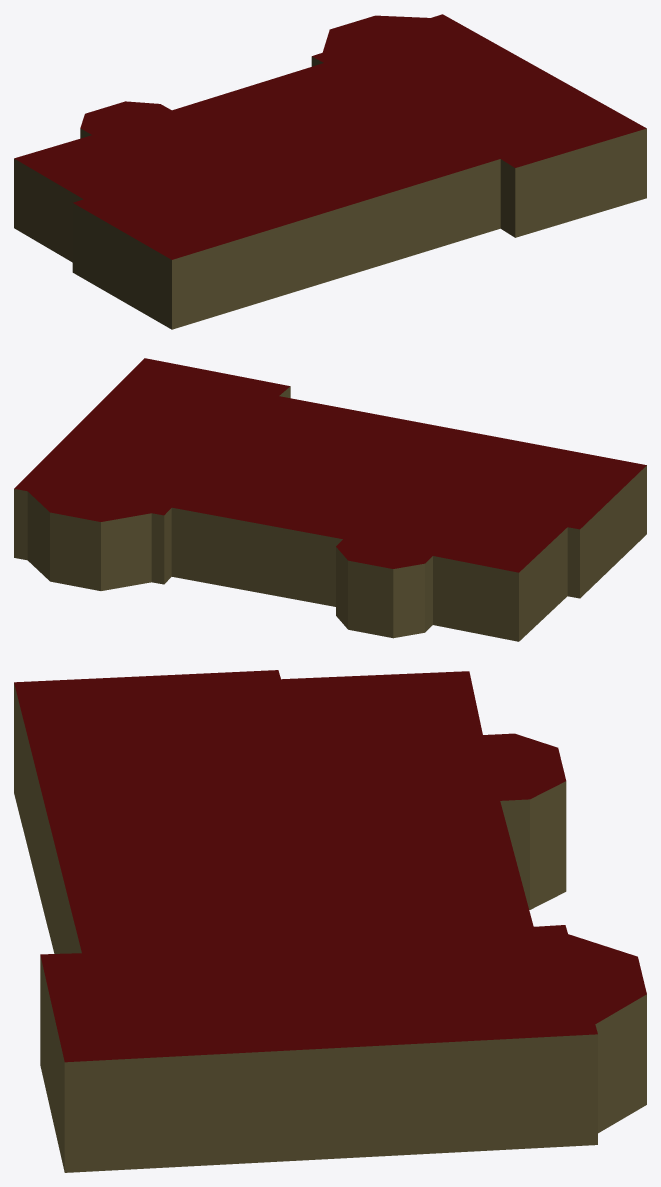
Rendered from Building_Grimshaw-Gudewicz_Biomedical_Building_Export.FBX.
The picture shows the model from 3 angles, top to bottom: view 1: azimuth 30°, elevation 25°; view 2: azimuth 150°, elevation 25°; view 3: azimuth 270°, elevation 25°; orthographic projection. The views are drawn at different scales.
Visible parts, largest first — view 1: Building_Grimshaw-Gudewicz_Biomedical_Building_Export; view 2: Building_Grimshaw-Gudewicz_Biomedical_Building_Export; view 3: Building_Grimshaw-Gudewicz_Biomedical_Building_Export.
Boxes of the visible parts, <box> form: Building_Grimshaw-Gudewicz_Biomedical_Building_Export: <box>14,14,646,329</box>; Building_Grimshaw-Gudewicz_Biomedical_Building_Export: <box>14,358,646,641</box>; Building_Grimshaw-Gudewicz_Biomedical_Building_Export: <box>14,670,646,1172</box>.
Size of the model in its own units: 22.45 by 2.95 by 15.31.
